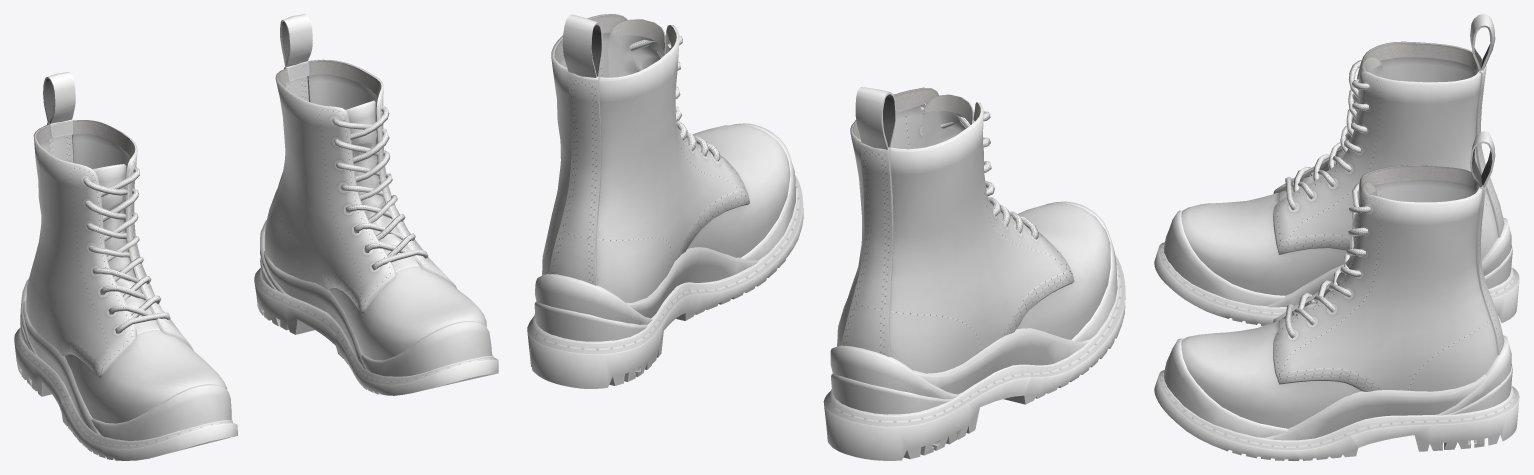
File: NFT_BOOTS_OP4.glb
3 views of the same model, side by side, from view 1: azimuth 30°, elevation 25°; view 2: azimuth 150°, elevation 25°; view 3: azimuth 270°, elevation 25° (orthographic). The views are drawn at different scales.
Parts seen in each view (by area): view 1: OP4_BASE_01, OP4_BASE_02, OP4_OUTSOLE_05, OP4_BASE_03, OP4_OUTSOLE_01, OP4_OUTSOLE_02, OP4_BASE_05, OP4_BASE_04, OP4_OUTSOLE_03; view 2: OP4_BASE_01, OP4_OUTSOLE_05, OP4_BASE_02, OP4_BASE_04, OP4_OUTSOLE_02, OP4_OUTSOLE_03, OP4_OUTSOLE_04, OP4_BASE_05, OP4_OUTSOLE_01, OP4_BASE_03; view 3: OP4_BASE_01, OP4_BASE_02, OP4_OUTSOLE_05, OP4_OUTSOLE_01, OP4_OUTSOLE_02, OP4_BASE_03, OP4_BASE_04, OP4_OUTSOLE_03, OP4_BASE_05, OP4_OUTSOLE_04.
Part boxes in pixels (<box>): OP4_BASE_01: <box>26,59,456,377</box>; OP4_BASE_02: <box>65,100,486,423</box>; OP4_OUTSOLE_05: <box>14,268,498,460</box>; OP4_BASE_03: <box>83,106,428,333</box>; OP4_OUTSOLE_01: <box>91,321,491,440</box>; OP4_OUTSOLE_02: <box>23,250,366,434</box>; OP4_BASE_05: <box>43,14,312,123</box>; OP4_BASE_04: <box>47,61,310,185</box>; OP4_OUTSOLE_03: <box>20,220,285,354</box>; OP4_BASE_01: <box>542,14,1074,373</box>; OP4_OUTSOLE_05: <box>527,175,1125,460</box>; OP4_BASE_02: <box>608,19,1110,339</box>; OP4_BASE_04: <box>549,72,893,357</box>; OP4_OUTSOLE_02: <box>626,247,1090,394</box>; OP4_OUTSOLE_03: <box>535,273,958,399</box>; OP4_OUTSOLE_04: <box>534,301,952,414</box>; OP4_BASE_05: <box>562,14,895,149</box>; OP4_OUTSOLE_01: <box>732,123,1117,341</box>; OP4_BASE_03: <box>629,36,1038,239</box>; OP4_BASE_01: <box>1273,41,1497,391</box>; OP4_BASE_02: <box>1181,57,1382,428</box>; OP4_OUTSOLE_05: <box>1154,242,1519,460</box>; OP4_OUTSOLE_01: <box>1163,210,1287,437</box>; OP4_OUTSOLE_02: <box>1264,264,1486,440</box>; OP4_BASE_03: <box>1285,60,1370,338</box>; OP4_BASE_04: <box>1475,59,1504,355</box>; OP4_OUTSOLE_03: <box>1437,217,1511,415</box>; OP4_BASE_05: <box>1470,14,1495,187</box>; OP4_OUTSOLE_04: <box>1447,246,1512,414</box>.
Bounding box in the file's own units: 45.75 × 32.84 × 37.28.
Materials: 1 (1 with a texture image).
